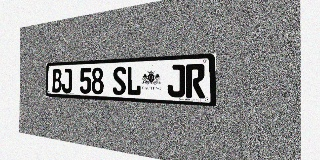5: (80, 68, 91, 94)
8: (92, 67, 103, 94)
B: (52, 69, 62, 93)
J: (167, 64, 185, 98), (62, 68, 72, 93)
L: (126, 66, 141, 96)
R: (186, 64, 205, 98)
S: (113, 67, 126, 95)
